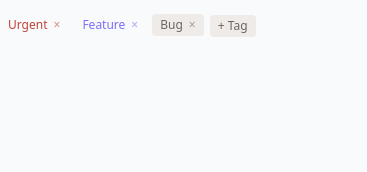
TagPicker › shows a hint when all workspace tags are already on the item
Click the button "+ Tag": (233, 26) [210,15,256,37]
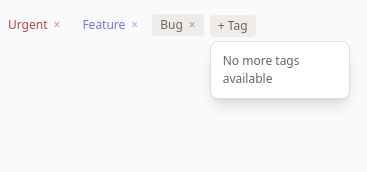
Expected: the text "No more tags available" is shown, [223,52,300,87]
